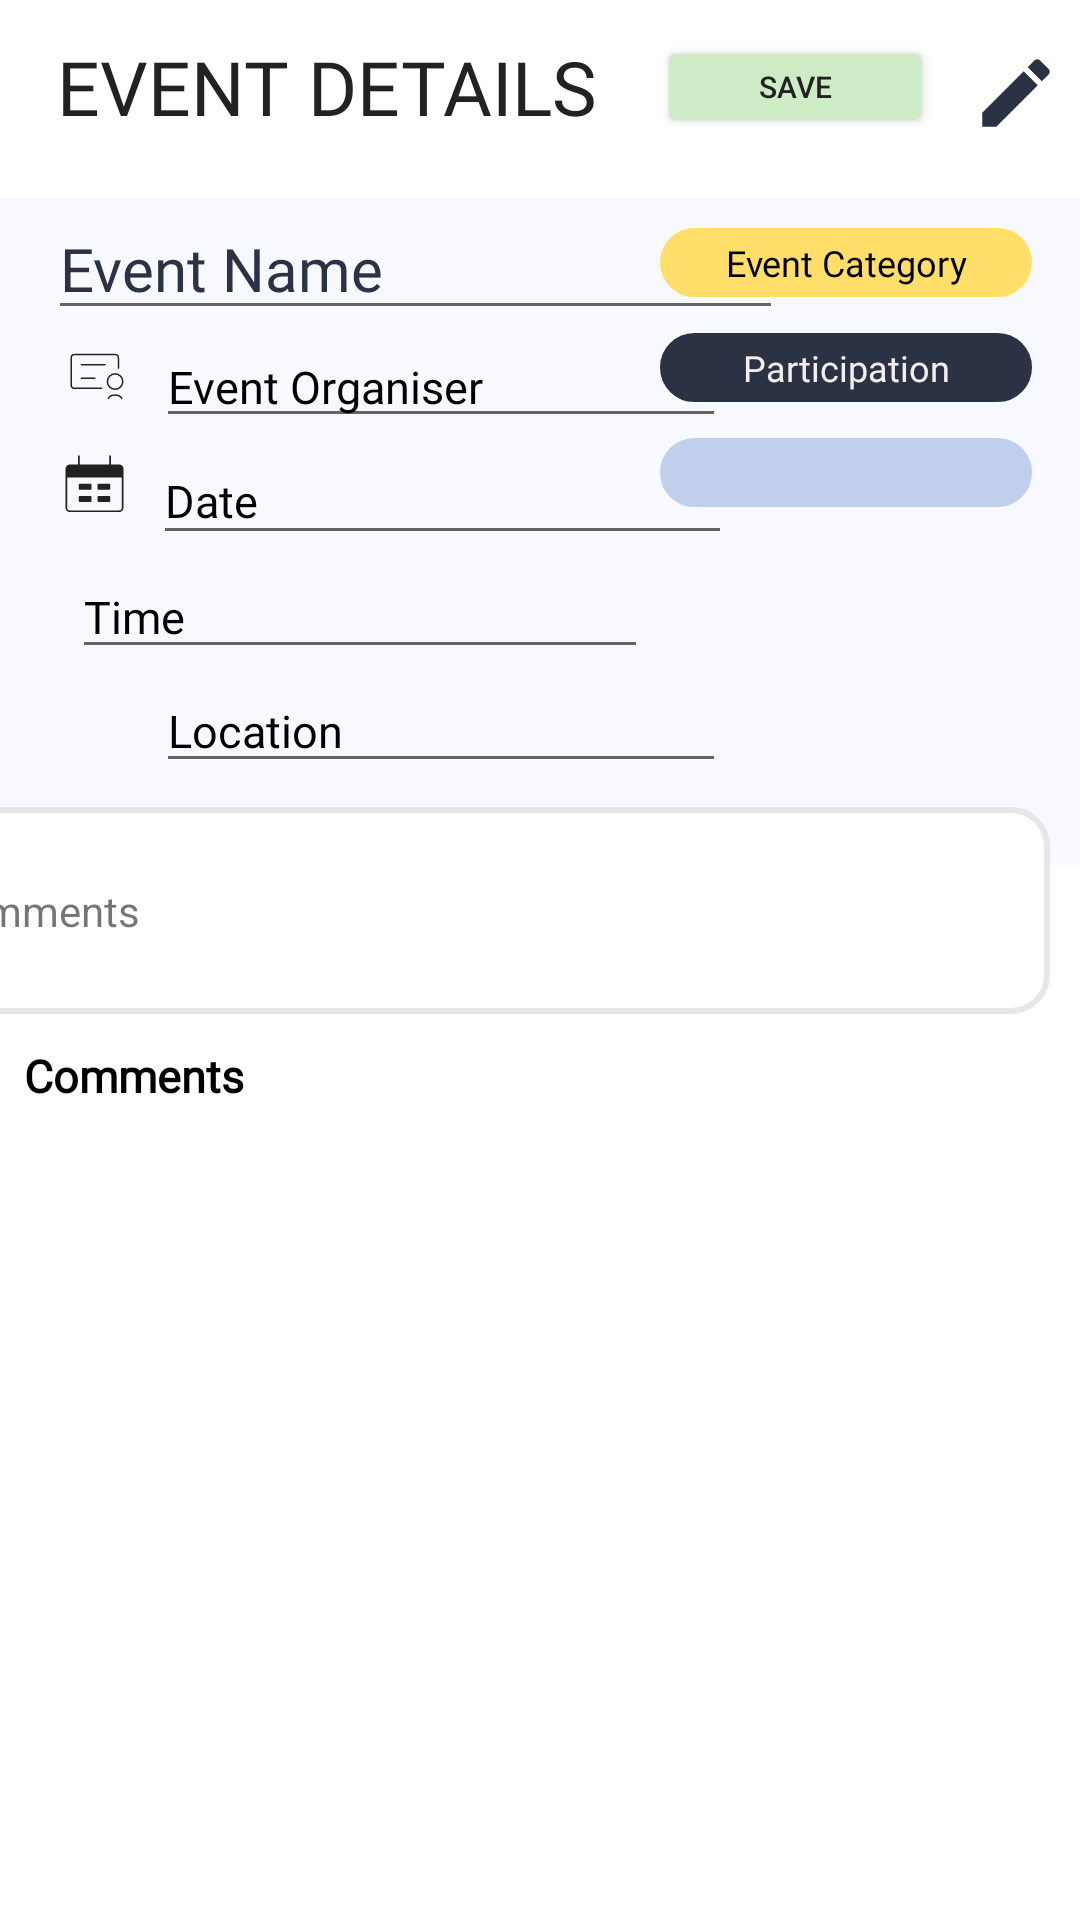

Locate icon controls on the screen. Image size 1080px×1920px, boxes as (x1, y1, x2, y2).
edit: (982, 59, 1050, 127)
profile: (70, 353, 124, 400)
